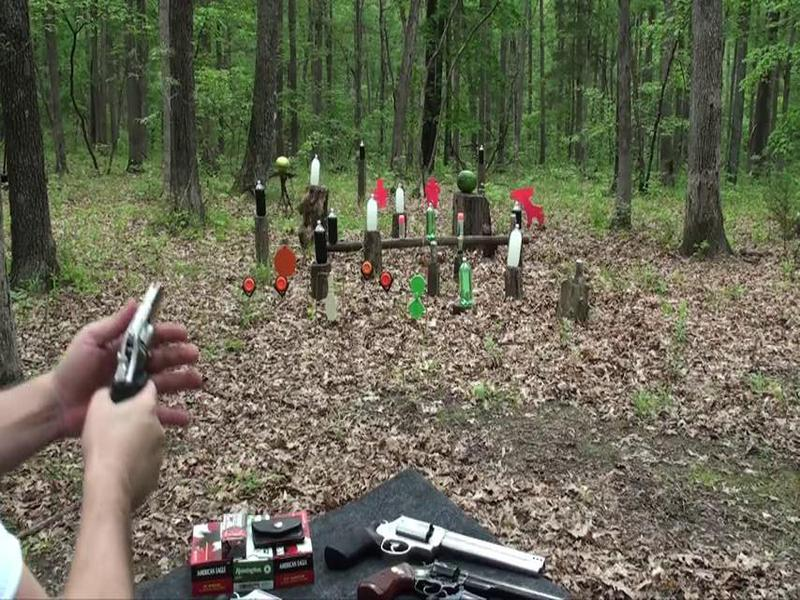Revolver: (96, 255, 175, 416)
